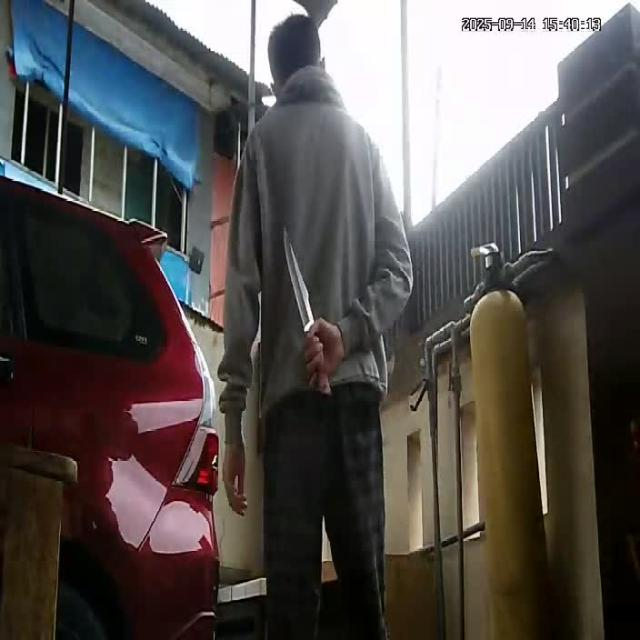senjata_tajam: (279, 224, 316, 336)
